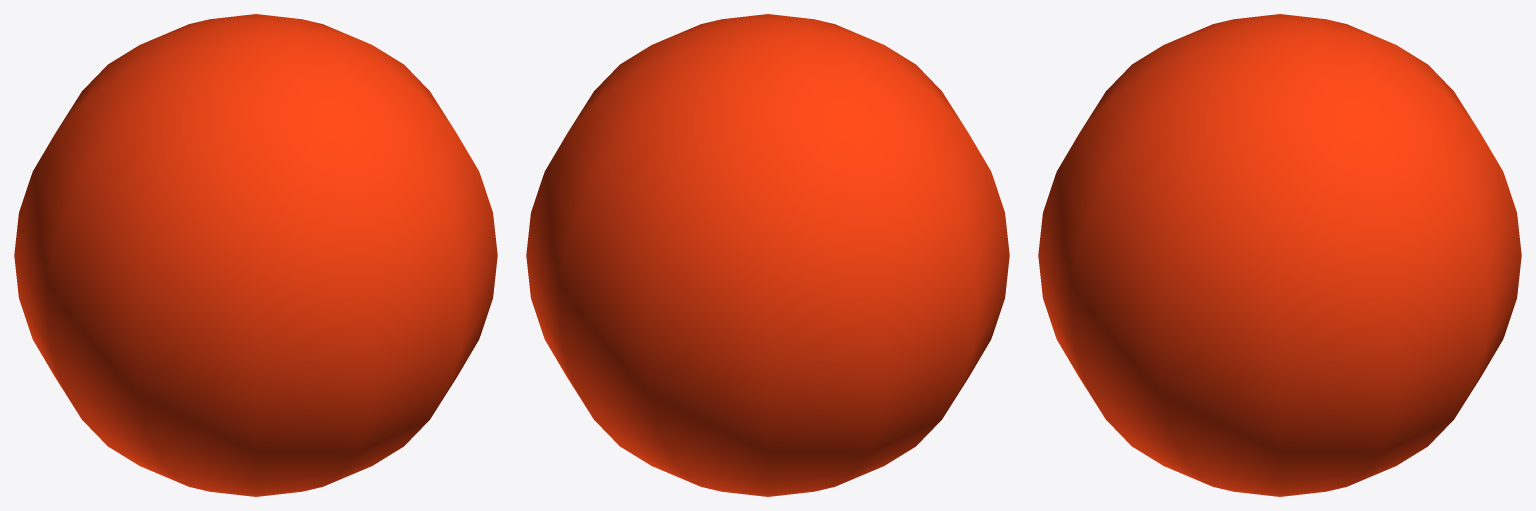
File: pingpong.obj
3 views of the same model, side by side, from view 1: azimuth 30°, elevation 25°; view 2: azimuth 150°, elevation 25°; view 3: azimuth 270°, elevation 25° (orthographic).
Parts seen in each view (by area): view 1: pingpong_ball; view 2: pingpong_ball; view 3: pingpong_ball.
Part boxes in pixels (x1=…): pingpong_ball: x1=14, y1=14, x2=497, y2=496; pingpong_ball: x1=526, y1=14, x2=1009, y2=496; pingpong_ball: x1=1038, y1=14, x2=1521, y2=496.
Bounding box in the file's own units: 0.04 × 0.04 × 0.04.
